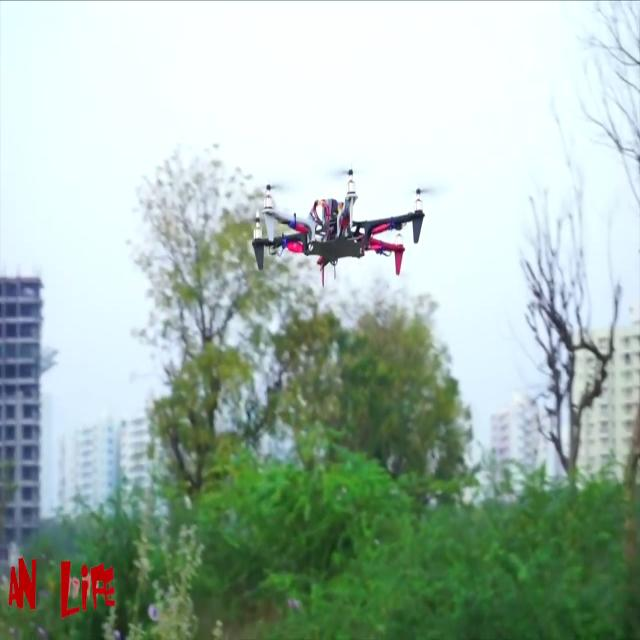drone: (237, 154, 429, 303)
